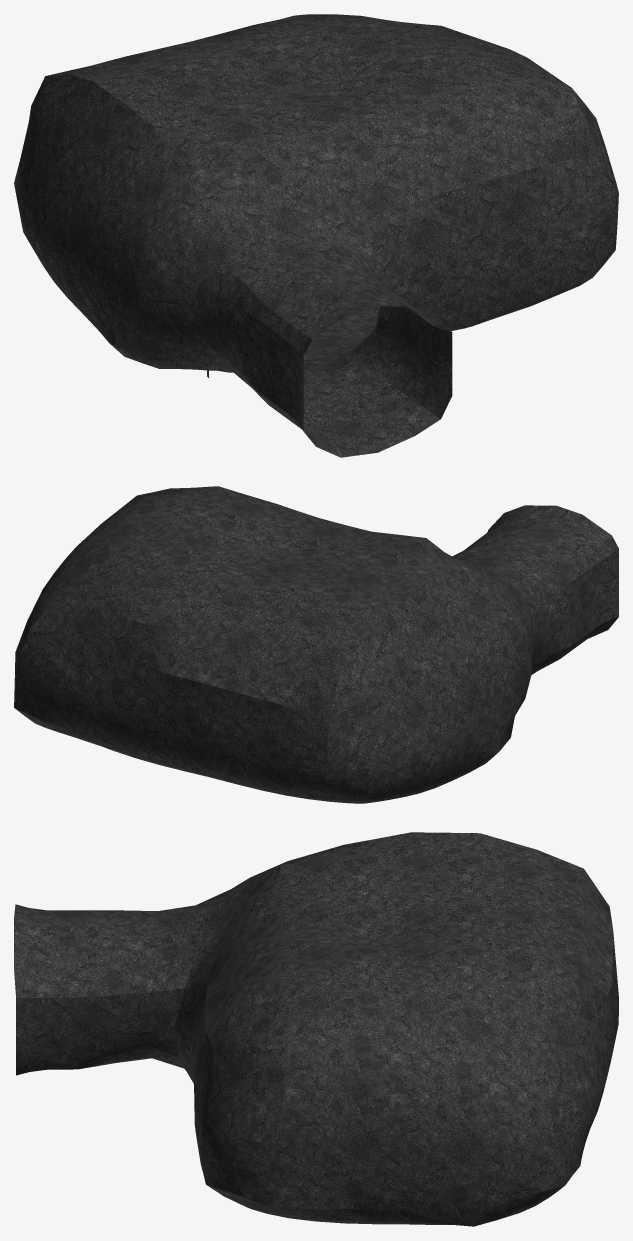
Rendered from CaveRoom1.glb.
The picture shows the model from 3 angles, top to bottom: view 1: azimuth 30°, elevation 25°; view 2: azimuth 150°, elevation 25°; view 3: azimuth 270°, elevation 25°; orthographic projection. The views are drawn at different scales.
Parts seen in each view (by area): view 1: Cube.004; view 2: Cube.004; view 3: Cube.004.
Part boxes in pixels (left/top/right/bottom): Cube.004: left=14, top=14, right=618, bottom=457; Cube.004: left=14, top=486, right=618, bottom=803; Cube.004: left=14, top=832, right=618, bottom=1226.
Size of the model in its own units: 22.03 by 10.18 by 24.67.
1 material, 1 textured.
